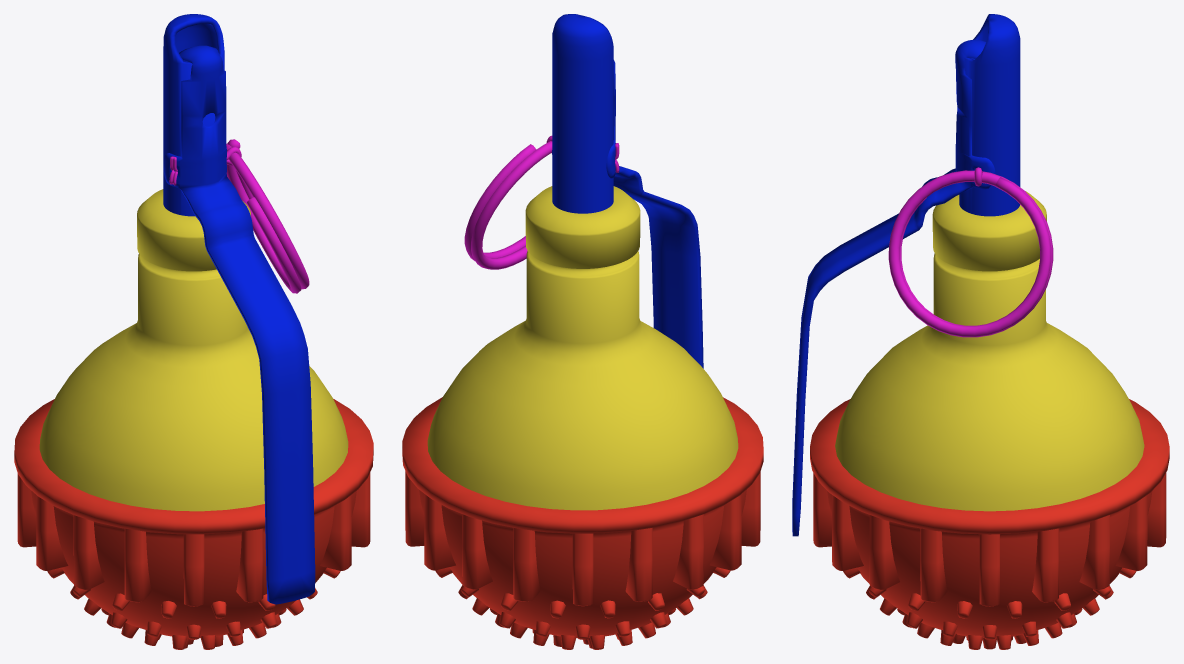
The model's file is Decoy.fbx.
The picture shows the model from 3 angles, left to right: view 1: azimuth 30°, elevation 25°; view 2: azimuth 150°, elevation 25°; view 3: azimuth 270°, elevation 25°; orthographic projection.
Visible parts, largest first — view 1: lowpoly.001; view 2: lowpoly.001; view 3: lowpoly.001.
Part boxes in pixels (bbox=[...]): lowpoly.001: bbox=[14, 14, 373, 649]; lowpoly.001: bbox=[402, 14, 763, 649]; lowpoly.001: bbox=[792, 14, 1169, 649].
Bounding box in the file's own units: 292 × 551 × 306.
